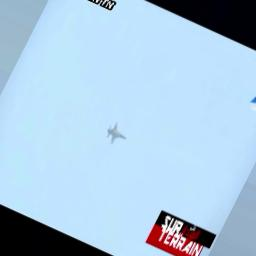Airplane: (105, 122, 128, 145)
